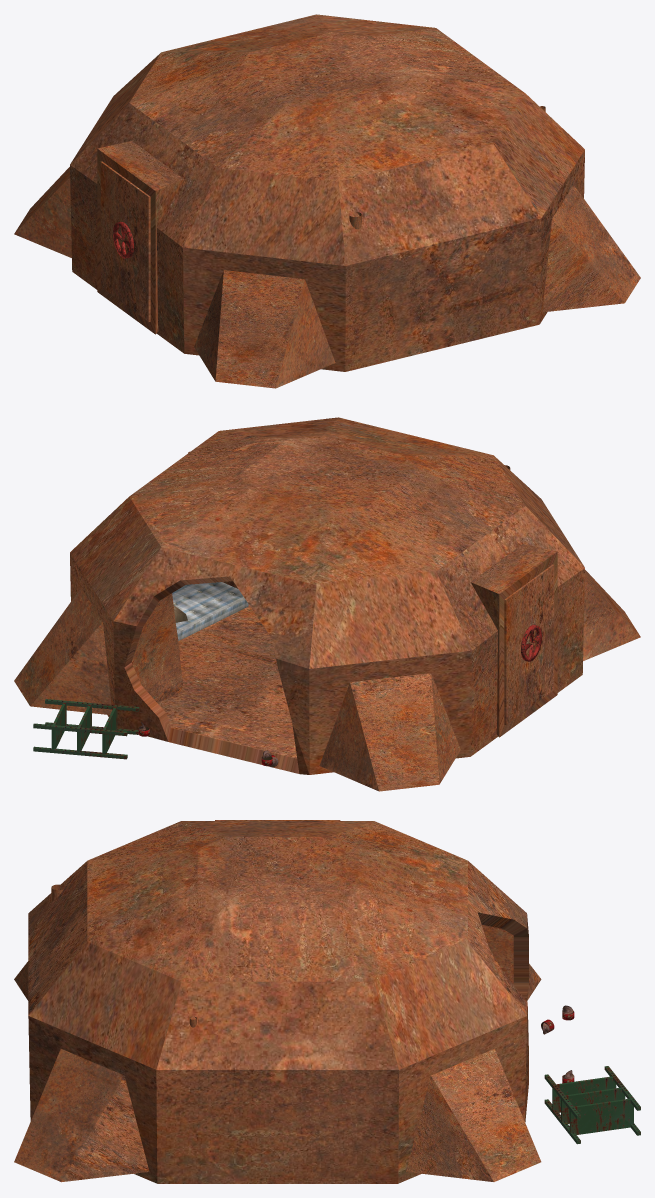
Rendered from room.fbx.
The picture shows the model from 3 angles, top to bottom: view 1: azimuth 30°, elevation 25°; view 2: azimuth 150°, elevation 25°; view 3: azimuth 270°, elevation 25°; orthographic projection. The views are drawn at different scales.
Visible parts, largest first — view 1: room; view 2: room; view 3: room.
Boxes of the visible parts, x1,y1,x2,y2 form: room: (14,14,640,388); room: (14,417,640,791); room: (14,820,640,1183).
Bounding box in the file's own units: 714 × 318 × 849.
